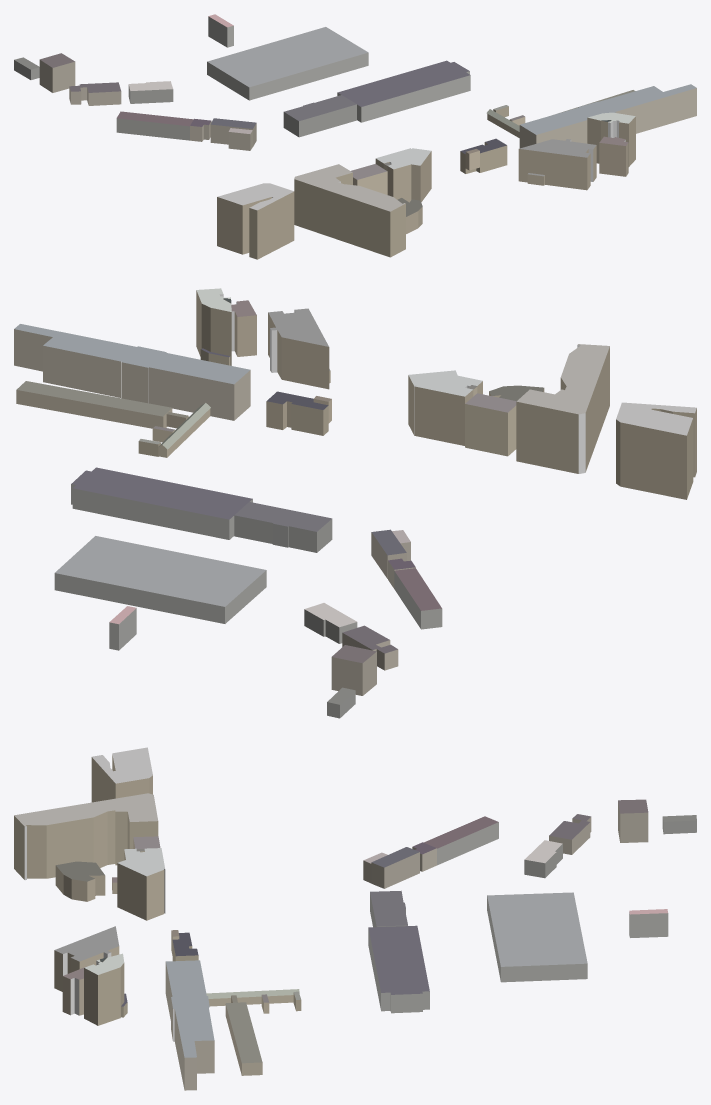
3 views of the same model, one above another, from view 1: azimuth 30°, elevation 25°; view 2: azimuth 150°, elevation 25°; view 3: azimuth 270°, elevation 25° (orthographic). The views are drawn at different scales.
Parts seen in each view (by area): view 1: tuile; view 2: tuile; view 3: tuile.
Part boxes in pixels (x1,y1,x2,y2): tuile: (14, 14, 696, 259); tuile: (14, 288, 696, 718); tuile: (14, 747, 696, 1090).
Bounding box in the file's own units: 268 × 28 × 273.
